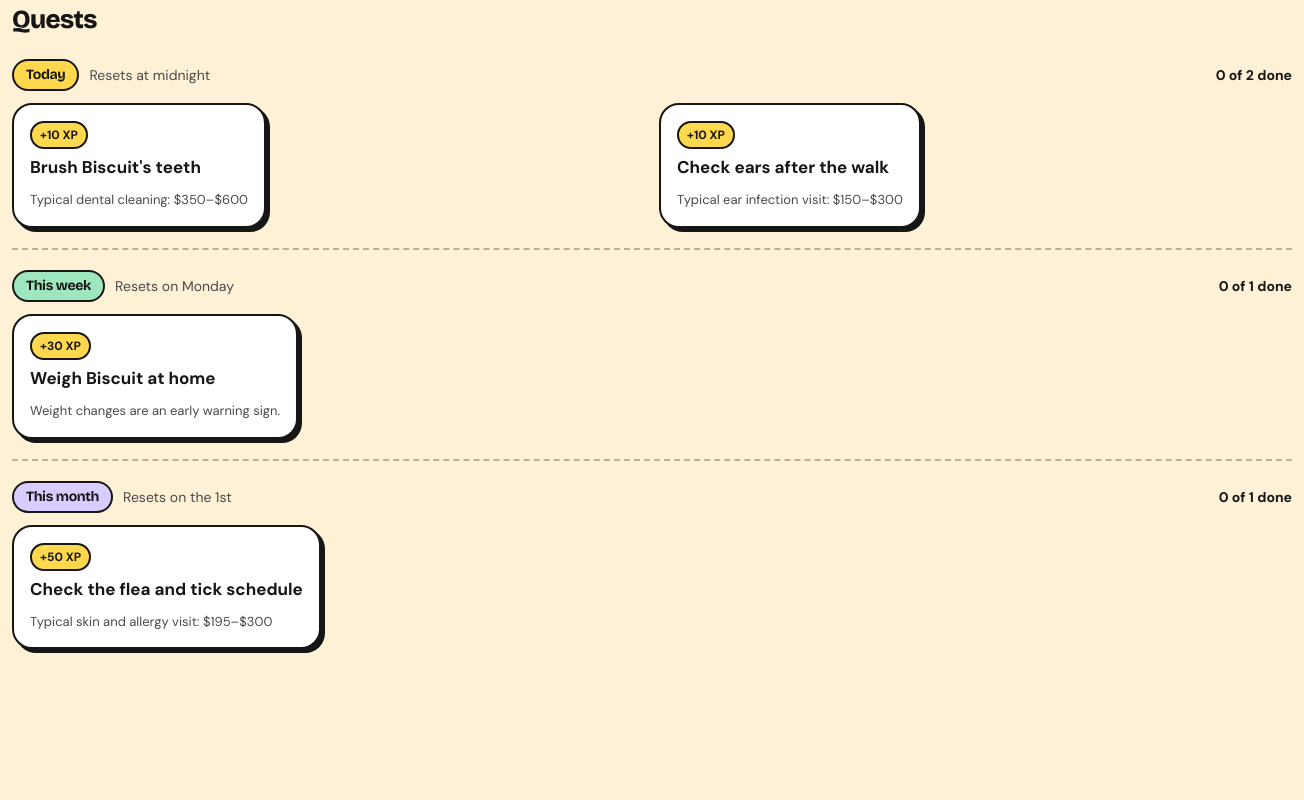
QuestsSection › completes a daily quest and marks it done
Click the button with aria-label "mark done: brush biscuit's teeth" at point(139, 165), box [12,103,266,228]
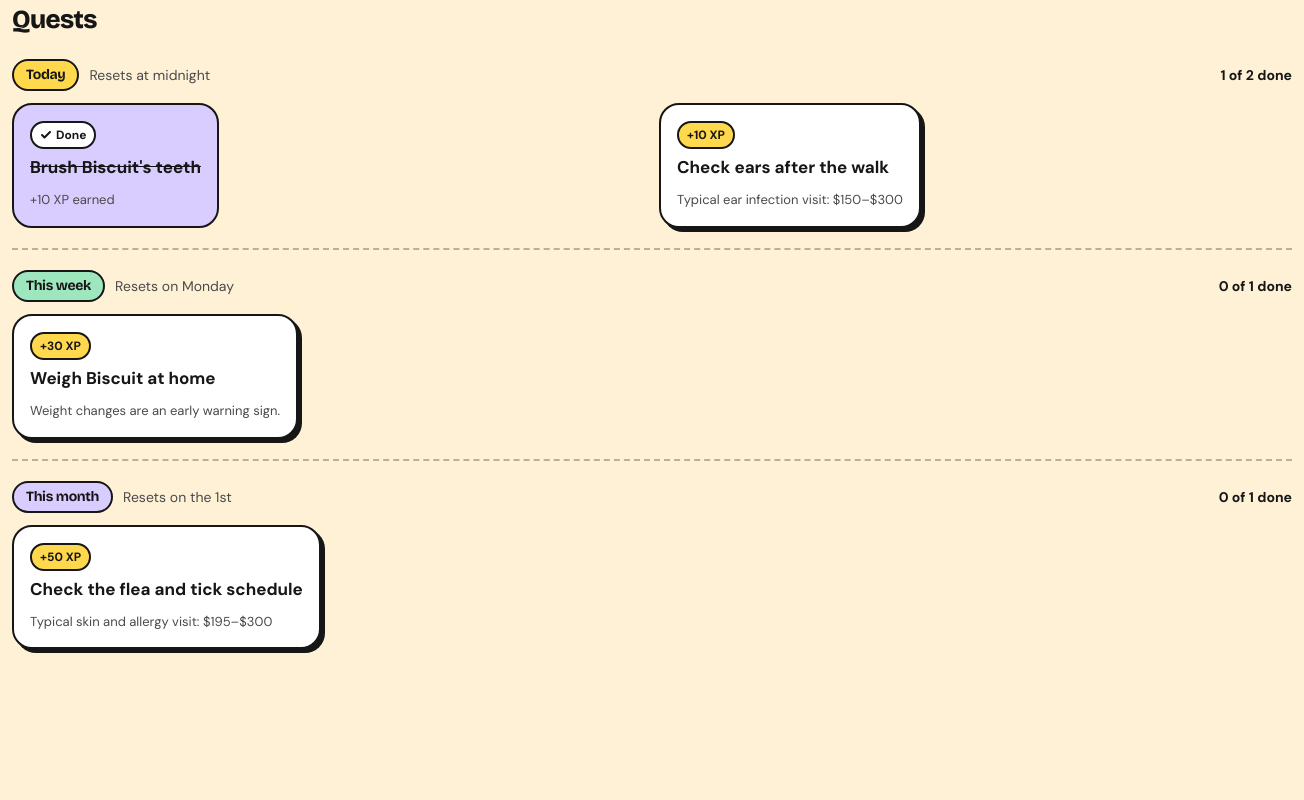
Expected: the button with aria-label "brush biscuit's teeth, done" is disabled, [12,103,219,228]
